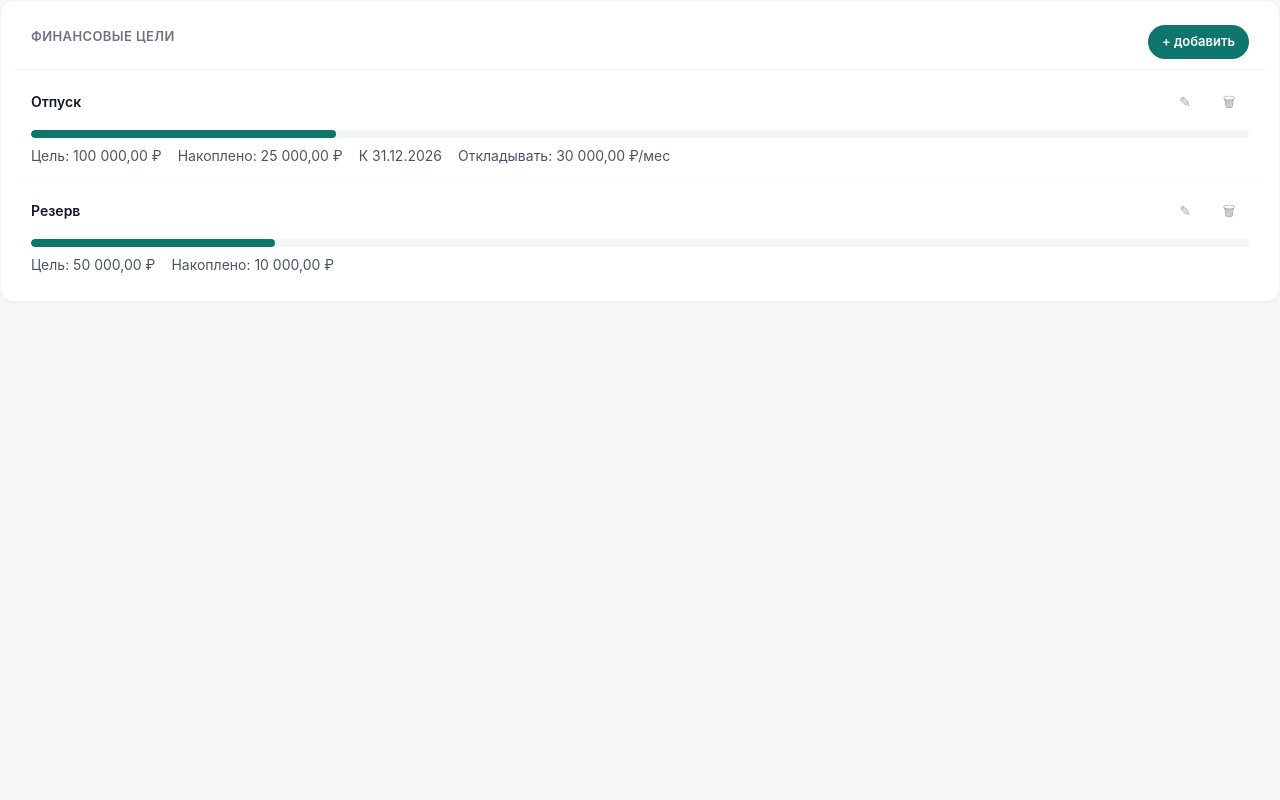
Scenario: GoalsComponent › очищает_ошибку_api_при_вводе_в_форму
Click the button named "Редактировать цель" at (1185, 102), box [1165,82,1205,122]
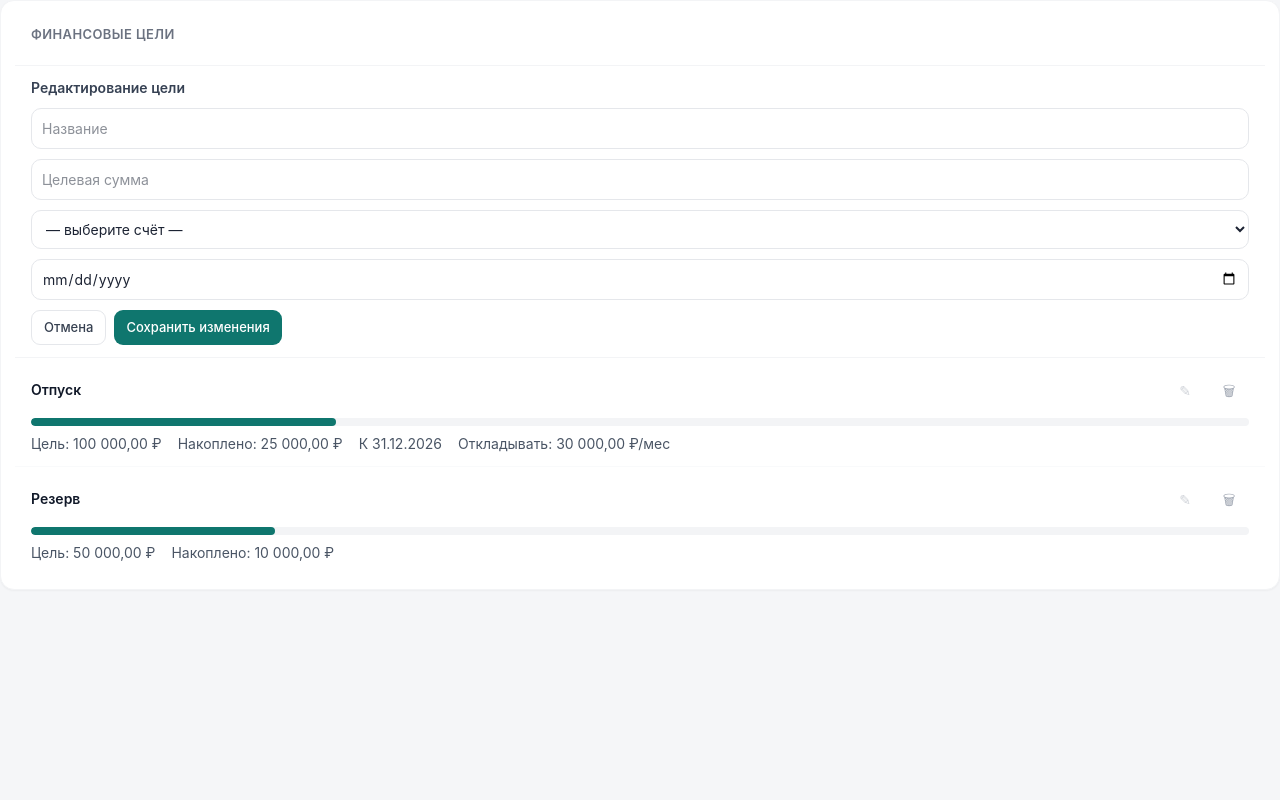
Click the button "Сохранить изменения" at (198, 327), box [114,310,282,345]
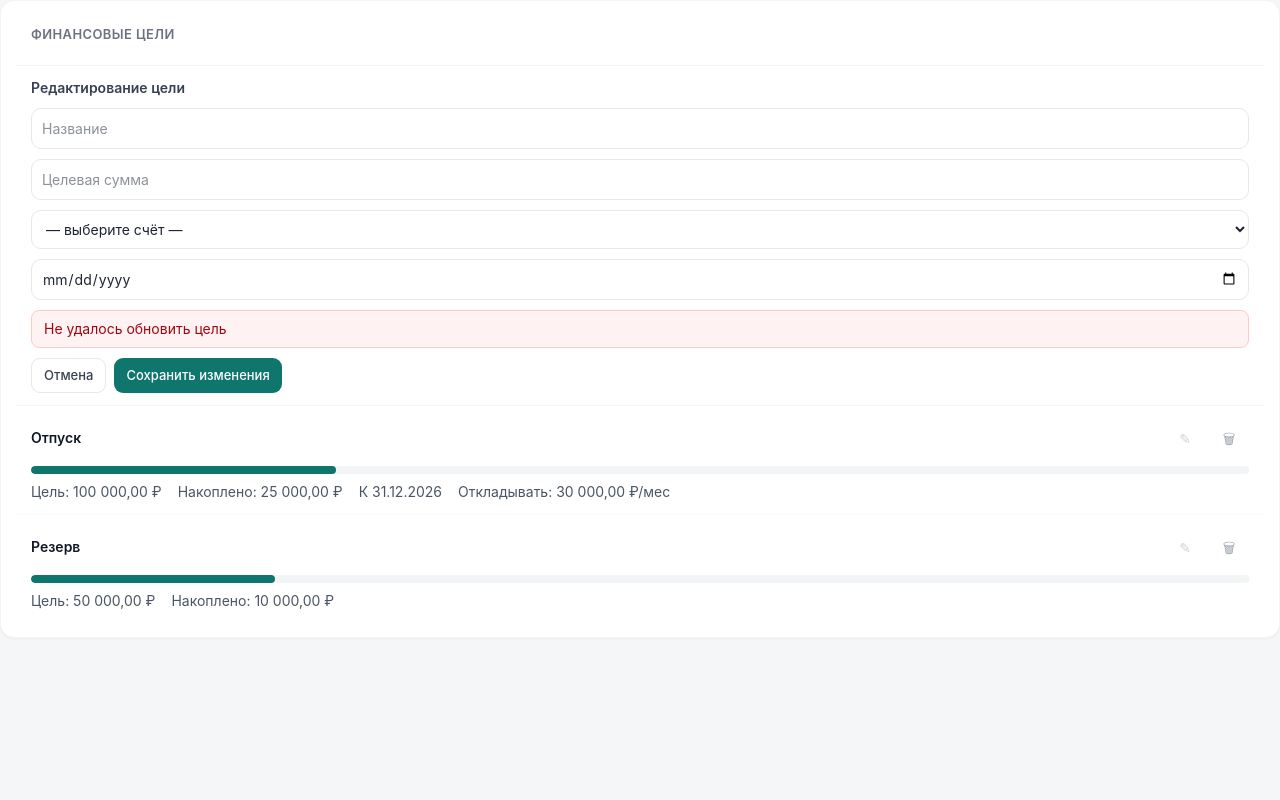
Check: the message "Не удалось обновить цель" is shown, box [31,310,1249,348]
Type "Новая цель" into the field named "Название цели" at (640, 128), box [31,108,1249,148]
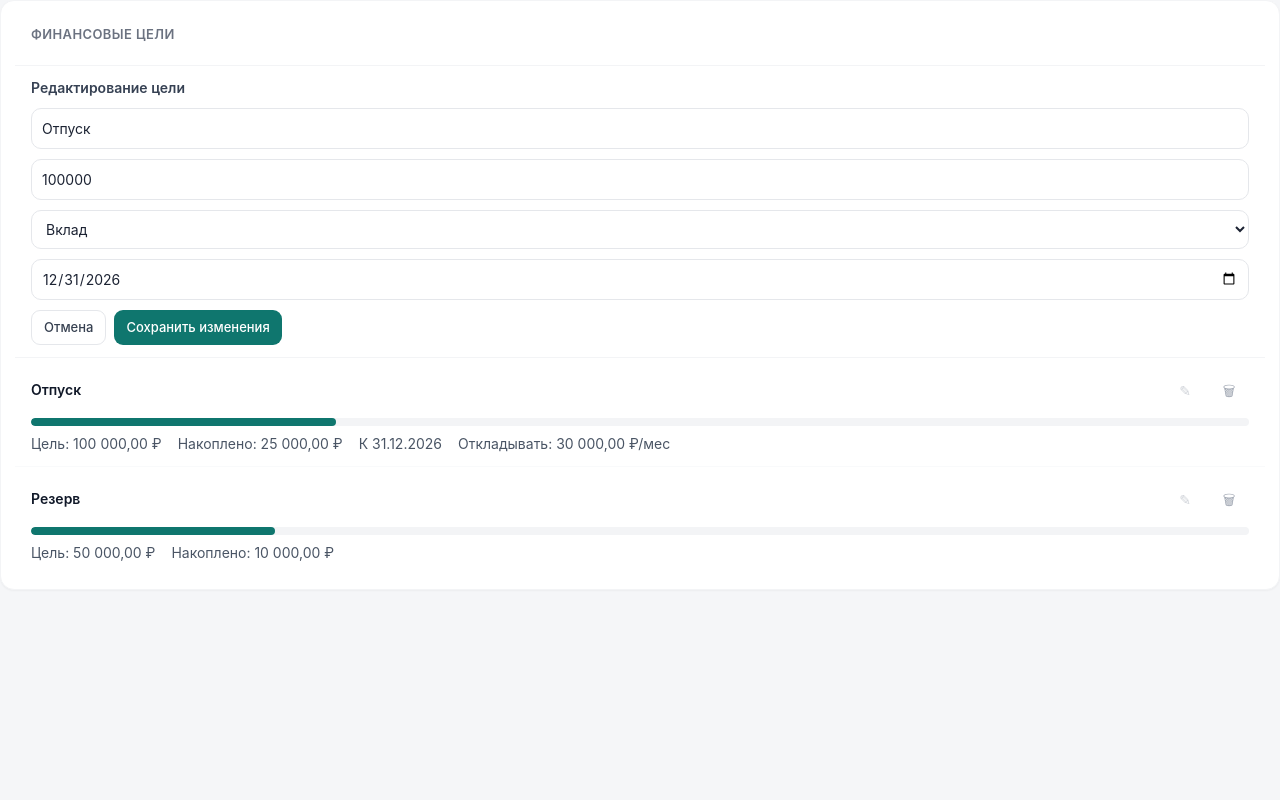
Check: the text "Редактирование цели" is shown, box [31,78,185,96]
Check: the message "Не удалось обновить цель" is gone
